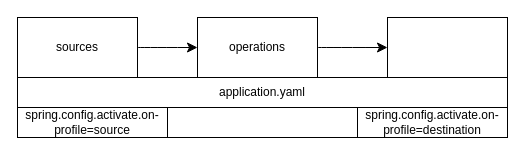
This 525x155 diagram has some shape labels left out. The centre of each missing label's shape, as x and y in pixels:
"destinations" belongs at point (447, 47).
"spring.config.activate.on-profile=operations" belongs at point (262, 122).
